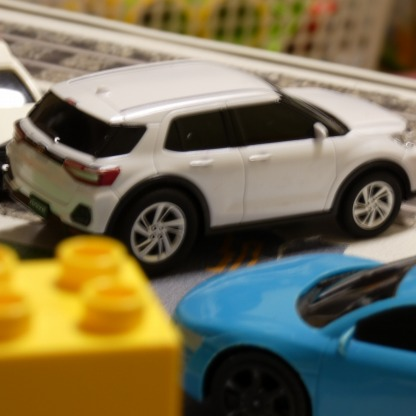car: (8, 53, 416, 267), (168, 251, 416, 415)
